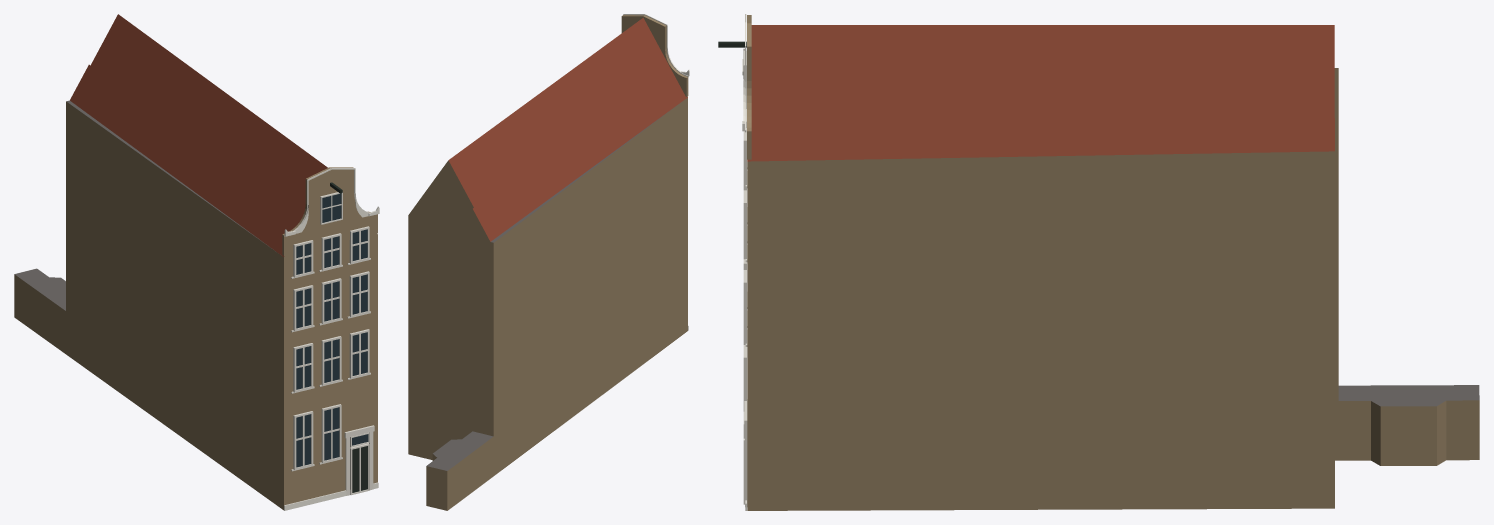
The picture shows the model from 3 angles, left to right: view 1: azimuth 30°, elevation 25°; view 2: azimuth 150°, elevation 25°; view 3: azimuth 270°, elevation 25°; orthographic projection. The views are drawn at different scales.
Visible parts, largest first — view 1: spec-0363100012169390; view 2: spec-0363100012169390; view 3: spec-0363100012169390.
Boxes of the visible parts, x1,y1,x2,y2 form: spec-0363100012169390: (14, 14, 379, 510); spec-0363100012169390: (408, 14, 689, 510); spec-0363100012169390: (718, 14, 1479, 510).
Bounding box in the file's own units: 5.95 × 19.14 × 28.89.
